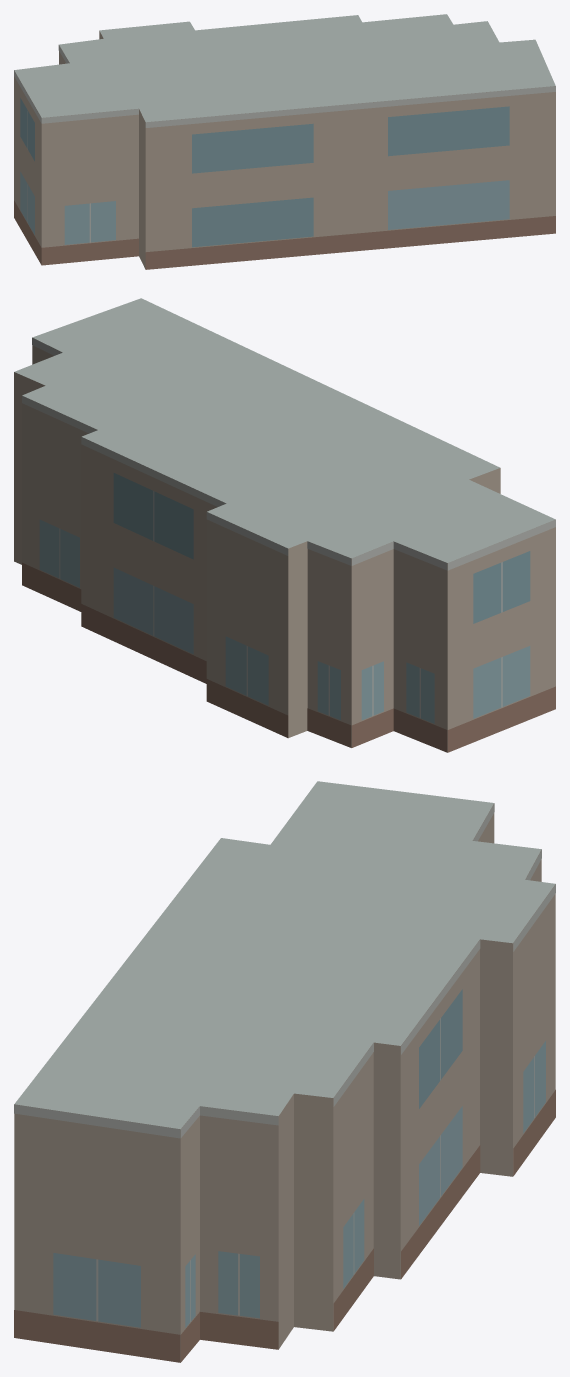
File: survey-upis-32717924.glb
The picture shows the model from 3 angles, top to bottom: view 1: azimuth 30°, elevation 25°; view 2: azimuth 150°, elevation 25°; view 3: azimuth 270°, elevation 25°; orthographic projection. The views are drawn at different scales.
Visible parts, largest first — view 1: survey-upis-32717924.tmp; view 2: survey-upis-32717924.tmp; view 3: survey-upis-32717924.tmp.
Part boxes in pixels (<box>): survey-upis-32717924.tmp: <box>14,14,555,269</box>; survey-upis-32717924.tmp: <box>14,298,555,752</box>; survey-upis-32717924.tmp: <box>14,781,555,1362</box>.
Size of the model in its own units: 19.51 by 6.1 by 12.83.
